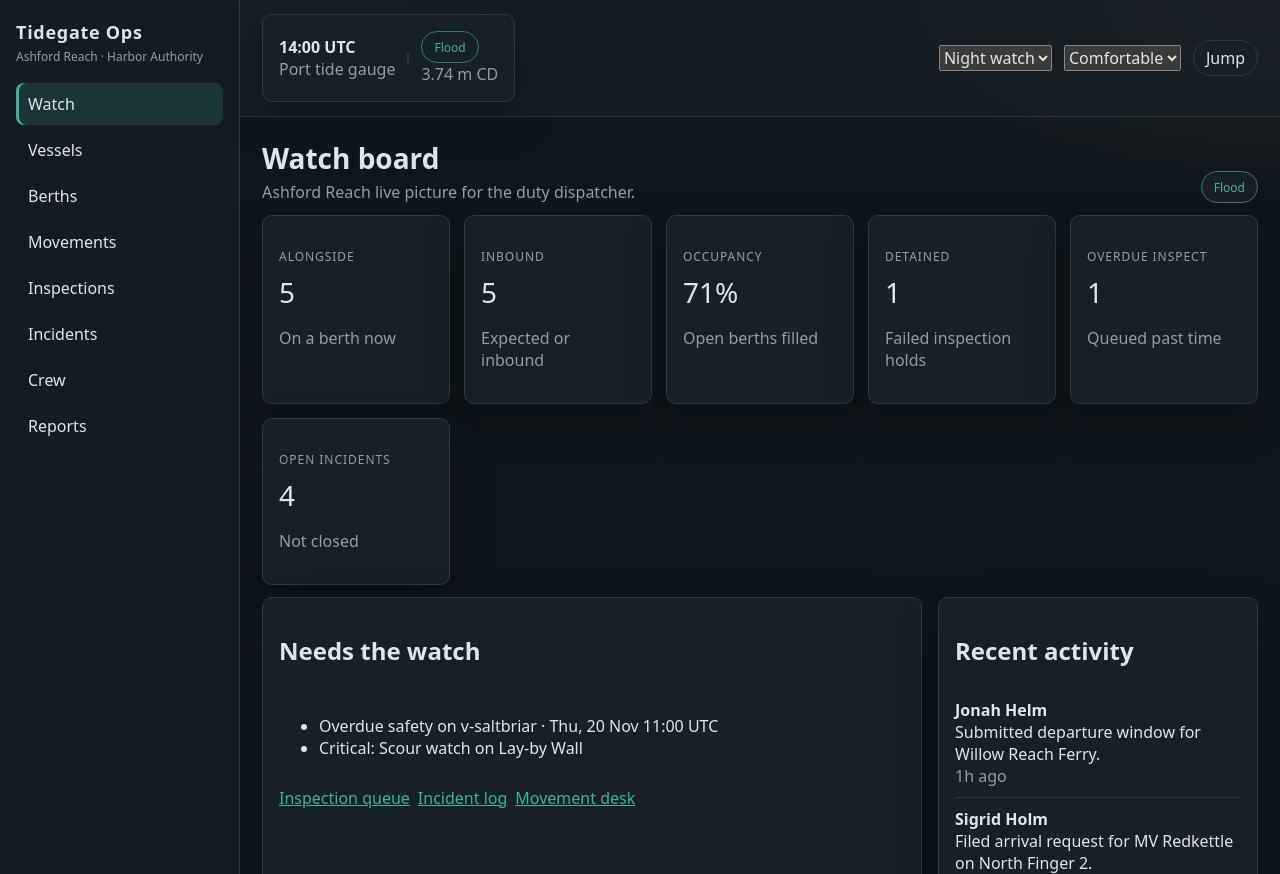
Scenario: incident log › rejects a title that is too short
The width and height of the screenshot is (1280, 874).
Click the link "Incidents" at [63, 334], box [28, 323, 97, 345]
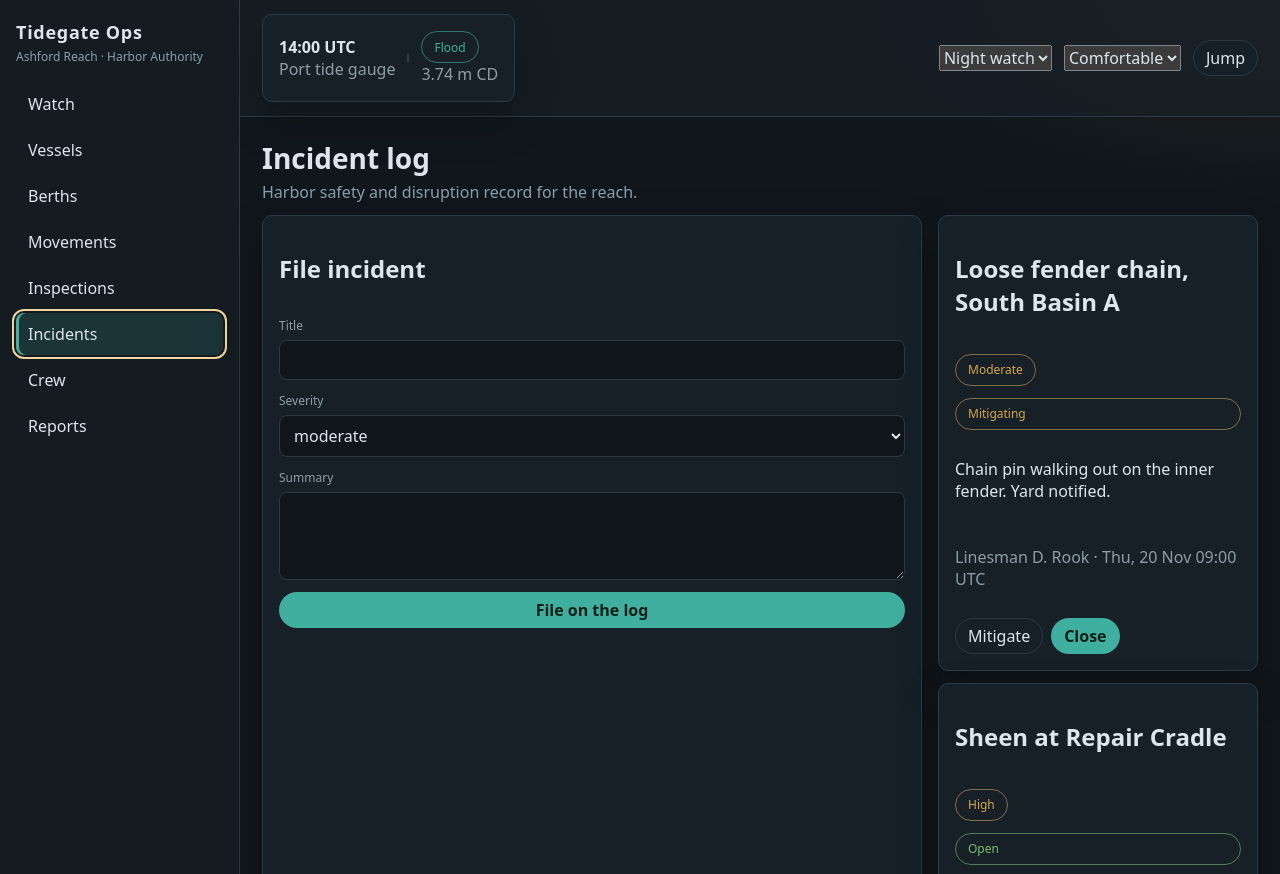
expect the heading "Incident log" is shown: met, box [262, 139, 430, 177]
Type "short" into the field labelled "Title" at [592, 360], box [279, 340, 905, 380]
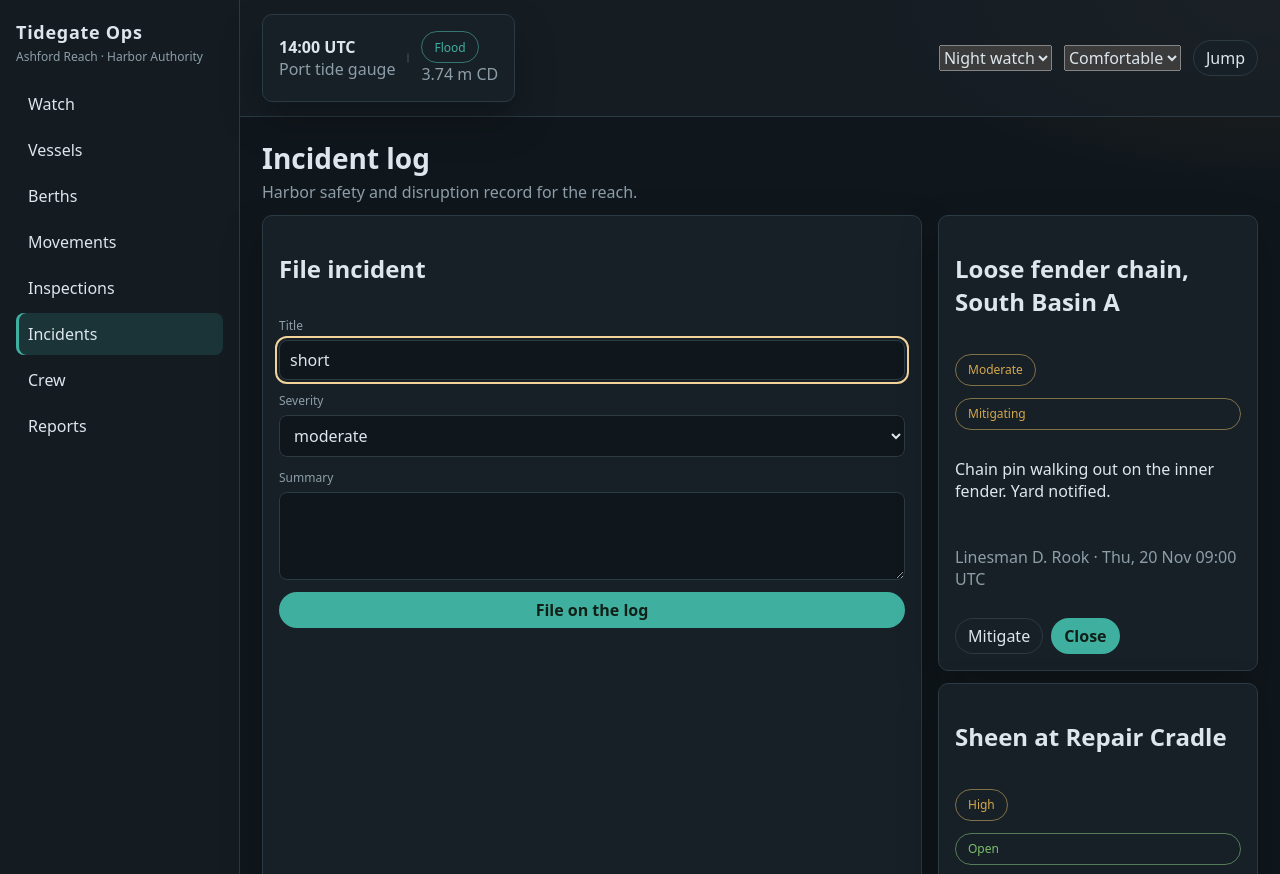
Click the button "File on the log" at [592, 610], box [279, 592, 905, 628]
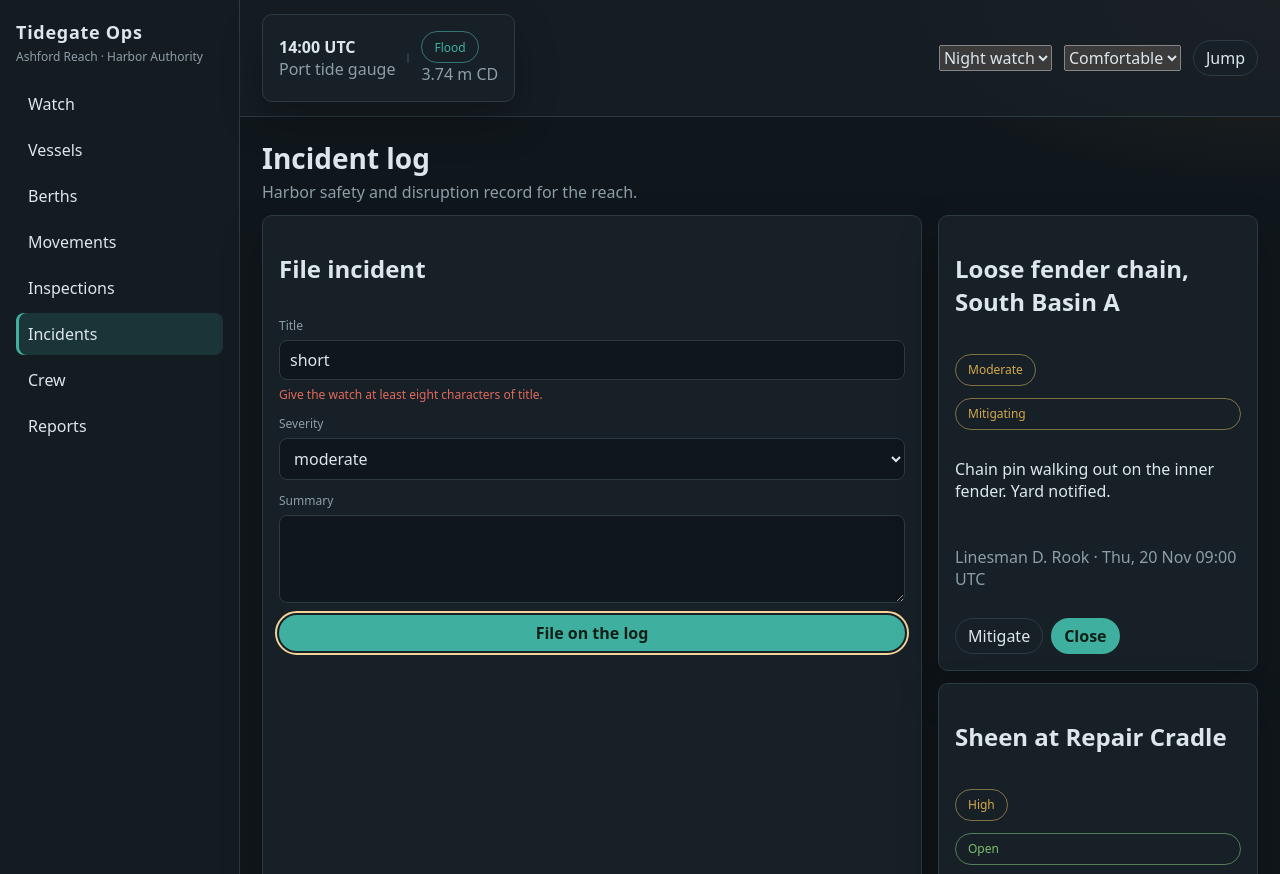
expect the message shows "eight characters": met, box [279, 386, 543, 403]
